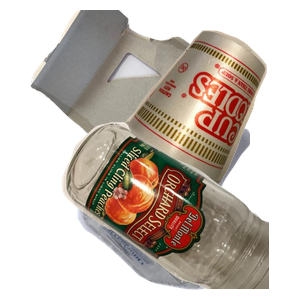glass: (60, 120, 300, 300)
paper: (28, 10, 268, 190)
plastic: (75, 147, 289, 300)
trash: (119, 28, 300, 207)
